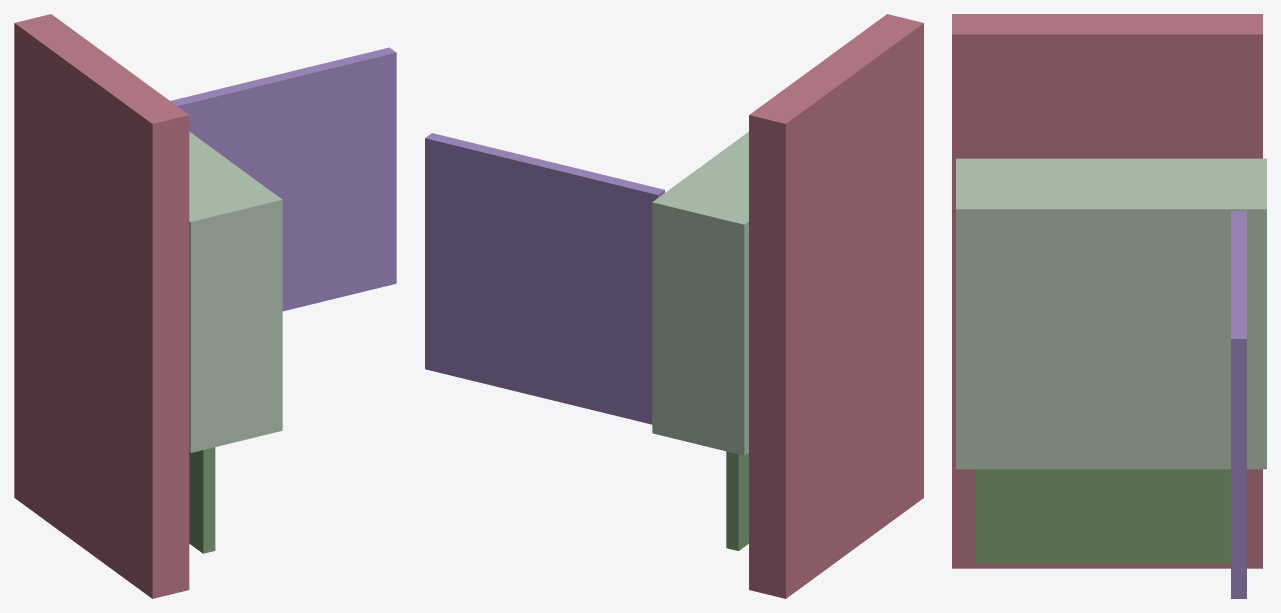
The picture shows the model from 3 angles, left to right: view 1: azimuth 30°, elevation 25°; view 2: azimuth 150°, elevation 25°; view 3: azimuth 270°, elevation 25°; orthographic projection. The views are drawn at different scales.
Visible parts, largest first — view 1: world; view 2: world; view 3: world.
Part boxes in pixels (box(x1,y1,x2,y2)): world: box(14, 14, 396, 598); world: box(425, 14, 923, 598); world: box(952, 14, 1266, 598).
Bounding box in the file's own units: 6 × 7.4 × 3.95.
